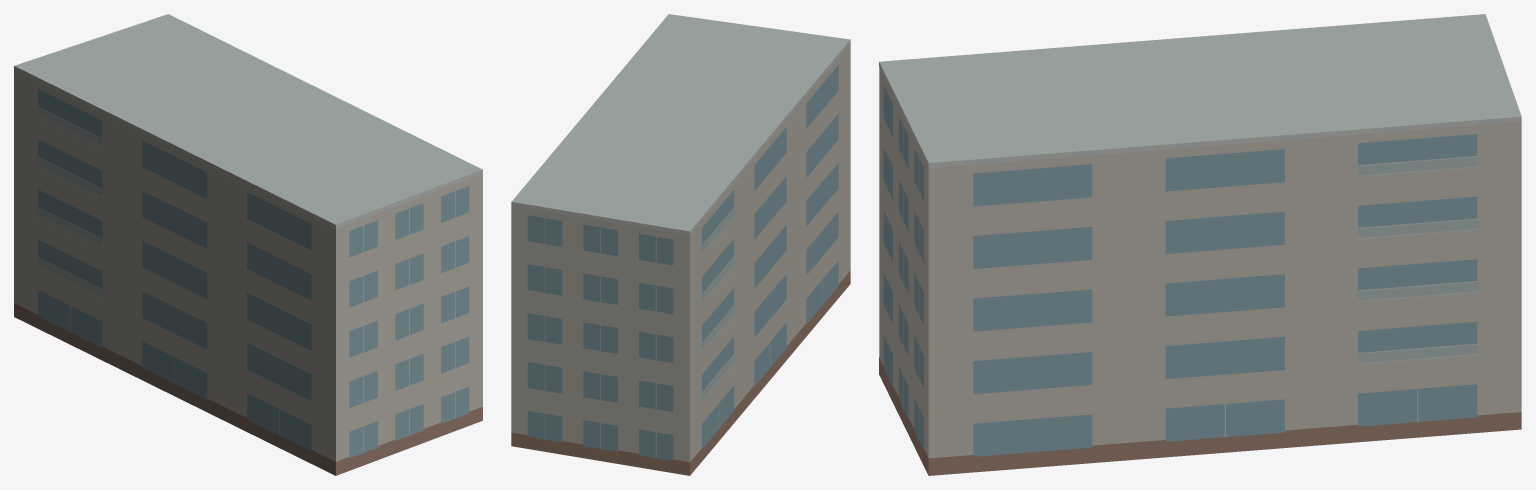
Rendered from survey-upis-32725219.glb.
3 renders of one model, left to right at view 1: azimuth 30°, elevation 25°; view 2: azimuth 150°, elevation 25°; view 3: azimuth 270°, elevation 25°, orthographic. The views are drawn at different scales.
Parts seen in each view (by area): view 1: survey-upis-32725219.tmp; view 2: survey-upis-32725219.tmp; view 3: survey-upis-32725219.tmp.
Part boxes in pixels (x1,y1,x2,y2): survey-upis-32725219.tmp: (14, 14, 482, 475); survey-upis-32725219.tmp: (511, 14, 850, 475); survey-upis-32725219.tmp: (879, 14, 1521, 475).
Bounding box in the file's own units: 15.45 × 15.1 × 28.13.
